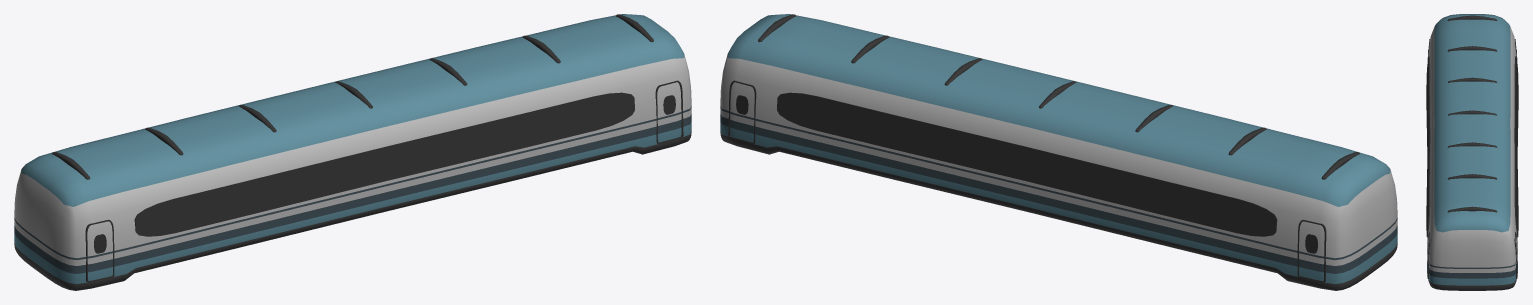
Rendered from HighSpeed_Wagon.glb.
3 views of the same model, side by side, from view 1: azimuth 30°, elevation 25°; view 2: azimuth 150°, elevation 25°; view 3: azimuth 270°, elevation 25° (orthographic). The views are drawn at different scales.
Parts seen in each view (by area): view 1: HighspeedTrain_Wagon; view 2: HighspeedTrain_Wagon; view 3: HighspeedTrain_Wagon.
Boxes of the visible parts, x1,y1,x2,y2 form: HighspeedTrain_Wagon: [14, 14, 691, 290]; HighspeedTrain_Wagon: [720, 14, 1397, 290]; HighspeedTrain_Wagon: [1426, 14, 1518, 290].
Size of the model in its own units: 11.18 by 1.9 by 2.03.
